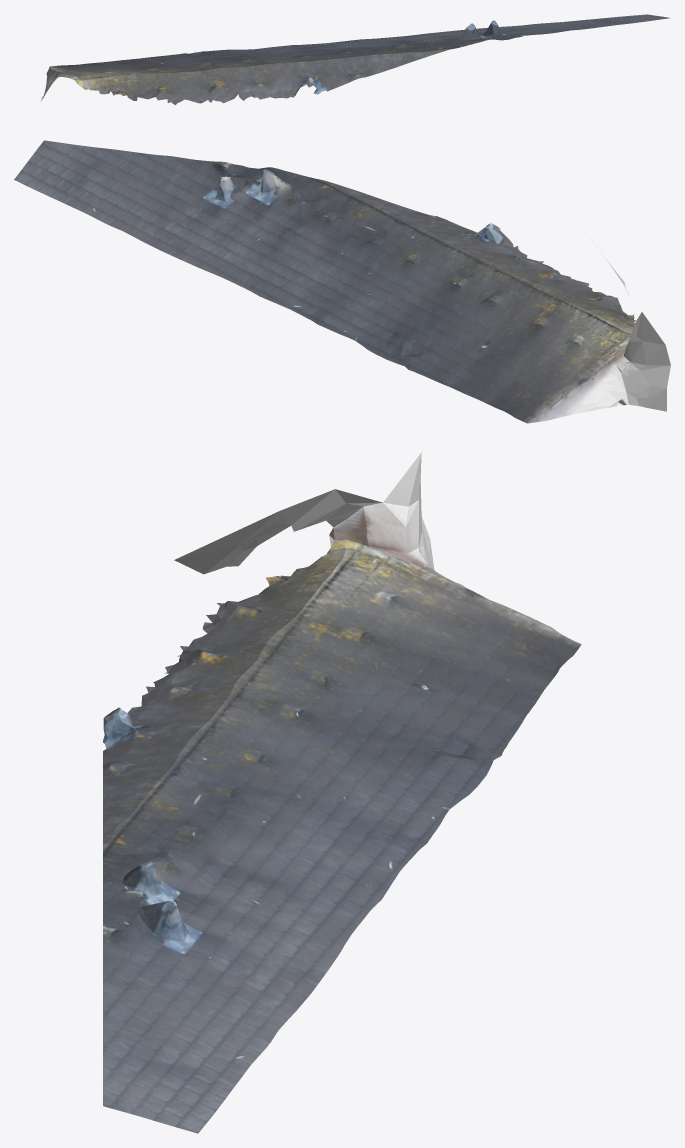
The picture shows the model from 3 angles, top to bottom: view 1: azimuth 30°, elevation 25°; view 2: azimuth 150°, elevation 25°; view 3: azimuth 270°, elevation 25°; orthographic projection. The views are drawn at different scales.
Size of the model in its own units: 14.42 by 1.8 by 5.2.
1 material, 1 textured.
